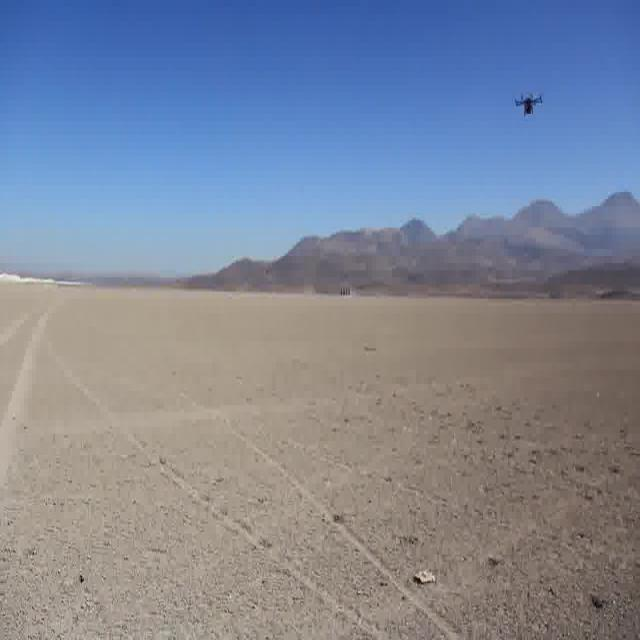Drone_FW: (514, 90, 542, 114)
